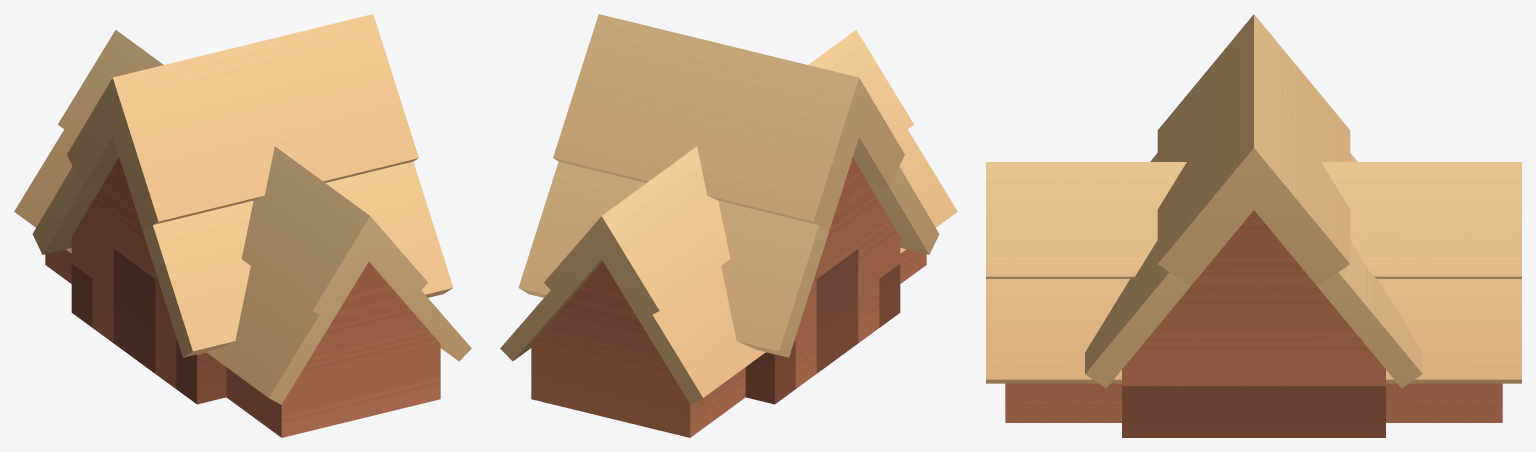
The model's file is hx_unit-mansion.glb.
3 views of the same model, side by side, from view 1: azimuth 30°, elevation 25°; view 2: azimuth 150°, elevation 25°; view 3: azimuth 270°, elevation 25° (orthographic). The views are drawn at different scales.
Bounding box in the file's own units: 0.36 × 0.3781 × 0.6094.
1 material, 1 textured.
